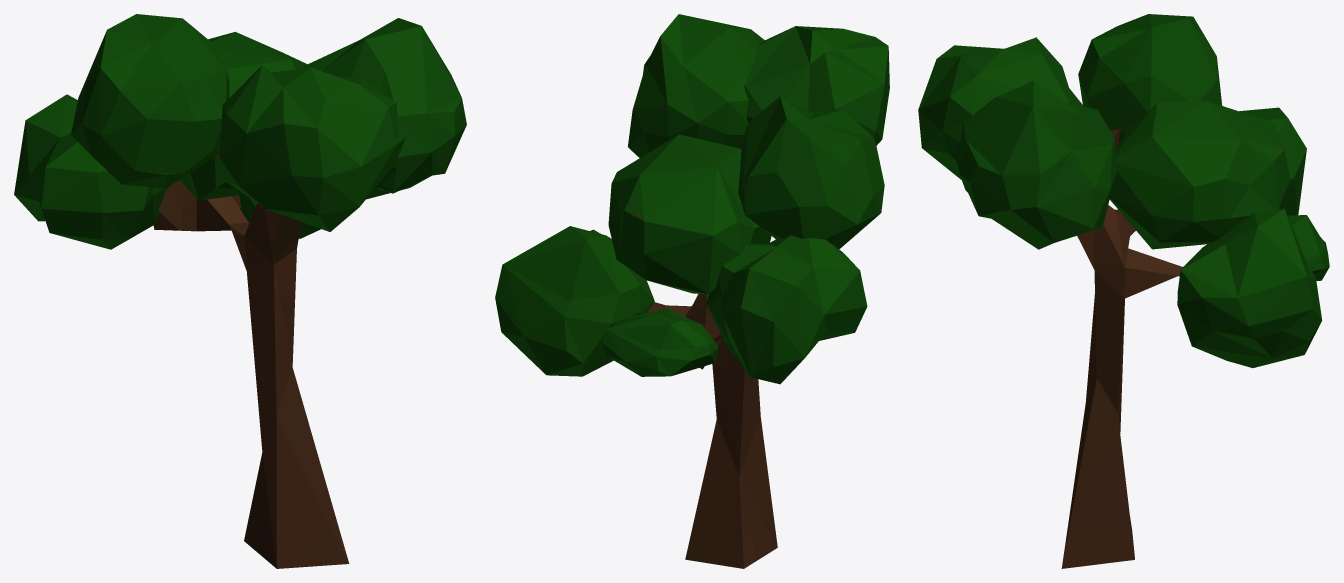
The model's file is treepluscollide.dae.
3 renders of one model, left to right at view 1: azimuth 30°, elevation 25°; view 2: azimuth 150°, elevation 25°; view 3: azimuth 270°, elevation 25°, orthographic. The views are drawn at different scales.
Visible parts, largest first — view 1: tree; view 2: tree; view 3: tree.
Part boxes in pixels (x1,y1,x2,y2): tree: (14,14,466,568); tree: (495,14,889,568); tree: (918,14,1329,568).
Size of what is drawn, in the model's own units: 2.58 by 2.92 by 3.83.
Materials: 1 (1 with a texture image).
